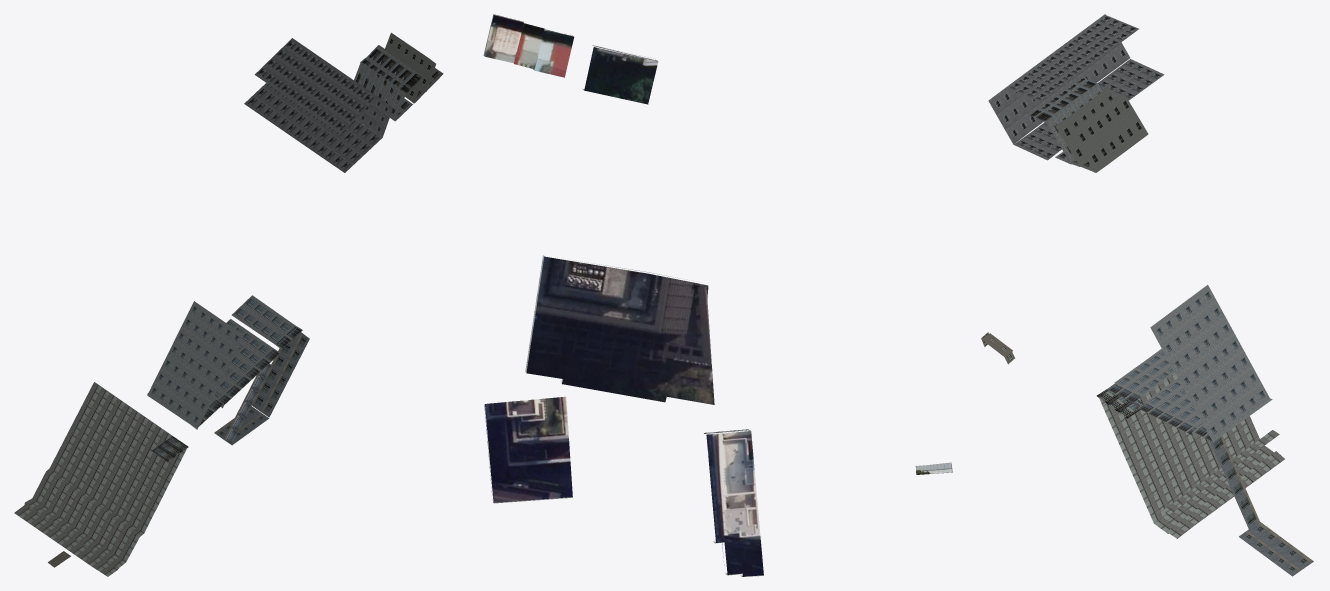
The model's file is tile_LOD4_r7_c13.glb.
The picture shows the model from 3 angles, left to right: view 1: azimuth 30°, elevation 25°; view 2: azimuth 150°, elevation 25°; view 3: azimuth 270°, elevation 25°; orthographic projection. The views are drawn at different scales.
Bounding box in the file's own units: 171 × 184 × 93.
Materials: 33 (33 with a texture image).
